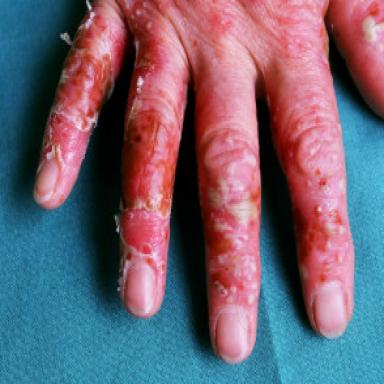Darier_s-Disease: (42, 1, 189, 293), (274, 0, 353, 316), (198, 119, 260, 305), (188, 0, 240, 40), (353, 0, 384, 52)
